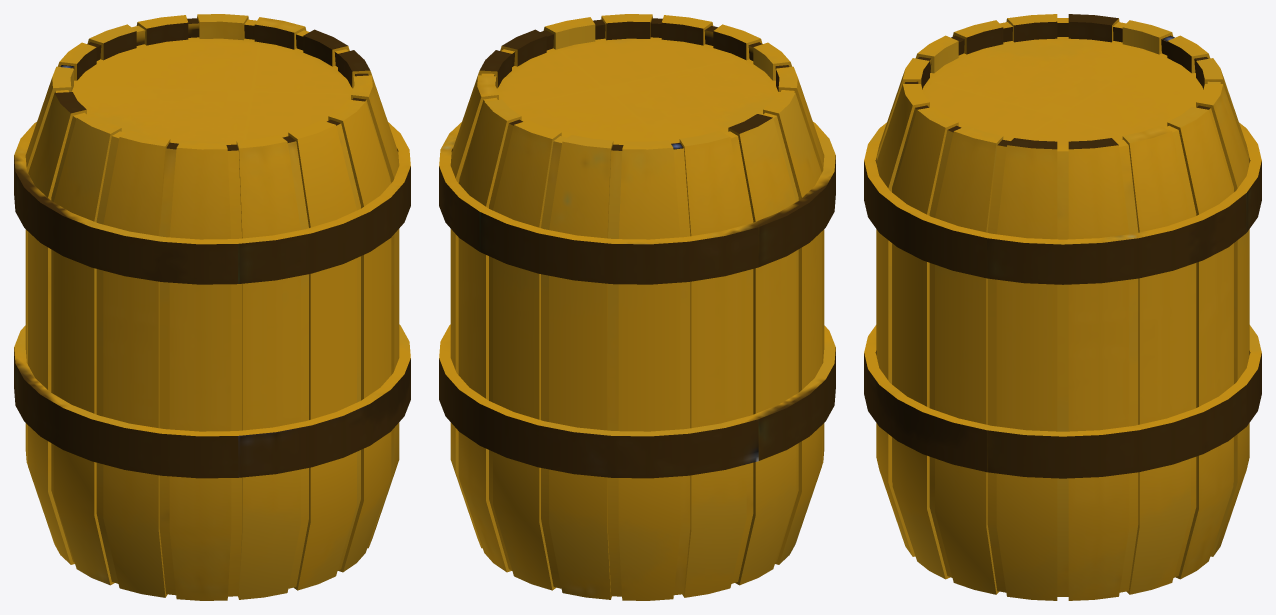
File: Barril.fbx
3 views of the same model, side by side, from view 1: azimuth 30°, elevation 25°; view 2: azimuth 150°, elevation 25°; view 3: azimuth 270°, elevation 25° (orthographic).
Parts seen in each view (by area): view 1: Barril; view 2: Barril; view 3: Barril.
Part boxes in pixels (x1,y1,x2,y2): Barril: (14, 14, 410, 600); Barril: (439, 14, 835, 600); Barril: (864, 14, 1261, 600).
Size of the model in its own units: 99 by 124 by 99.
